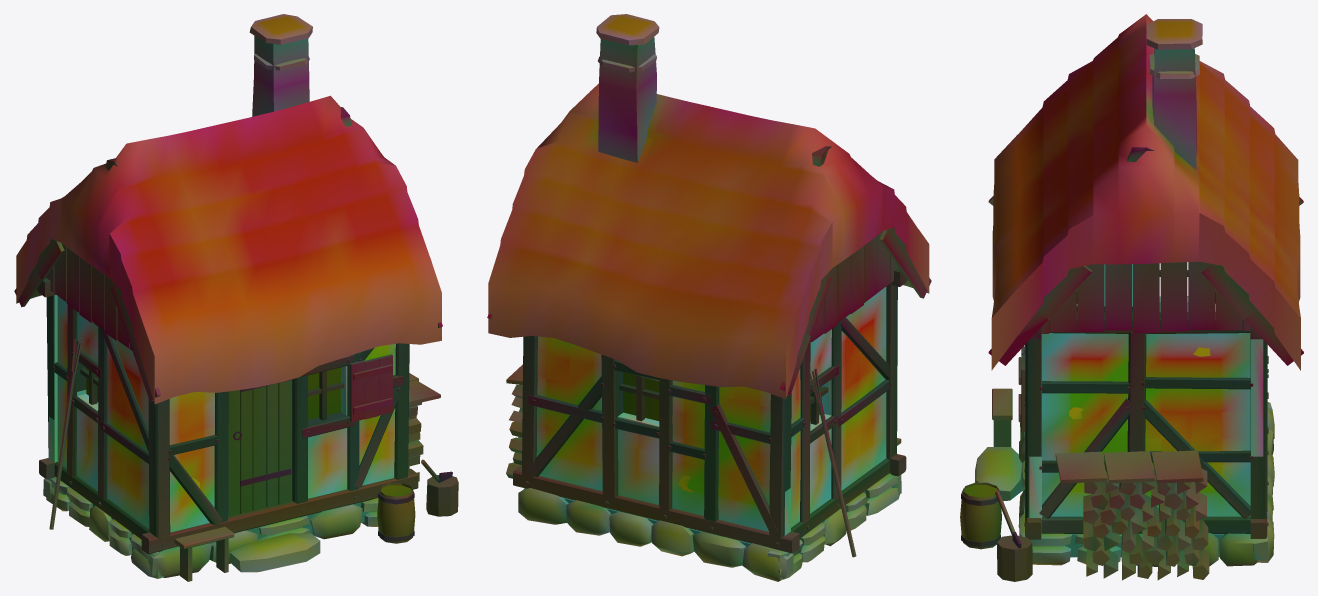
File: hovel.glb
The picture shows the model from 3 angles, left to right: view 1: azimuth 30°, elevation 25°; view 2: azimuth 150°, elevation 25°; view 3: azimuth 270°, elevation 25°; orthographic projection. The views are drawn at different scales.
Visible parts, largest first — view 1: hovel_LOD0; view 2: hovel_LOD0; view 3: hovel_LOD0.
Part boxes in pixels (x1,y1,x2,y2): hovel_LOD0: (14,14,458,581); hovel_LOD0: (487,14,931,581); hovel_LOD0: (960,14,1303,581).
Size of what is drawn, in the model's own units: 2.38 by 3.14 by 1.93.
